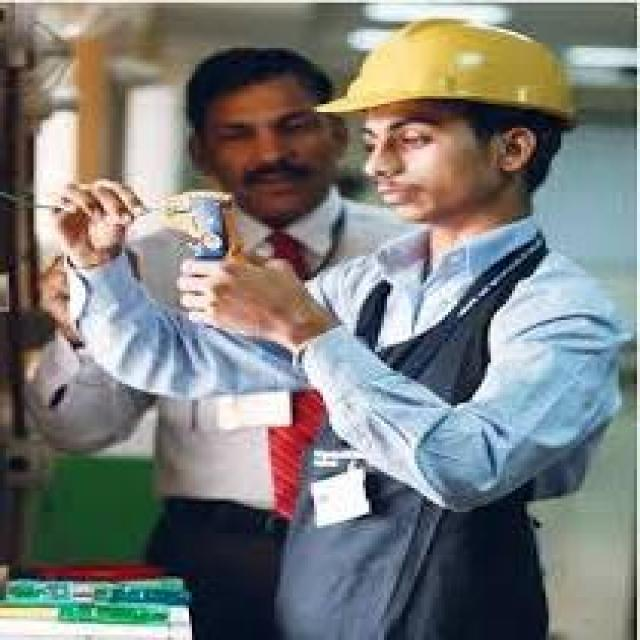Safety-Helmet: (317, 8, 597, 136)
